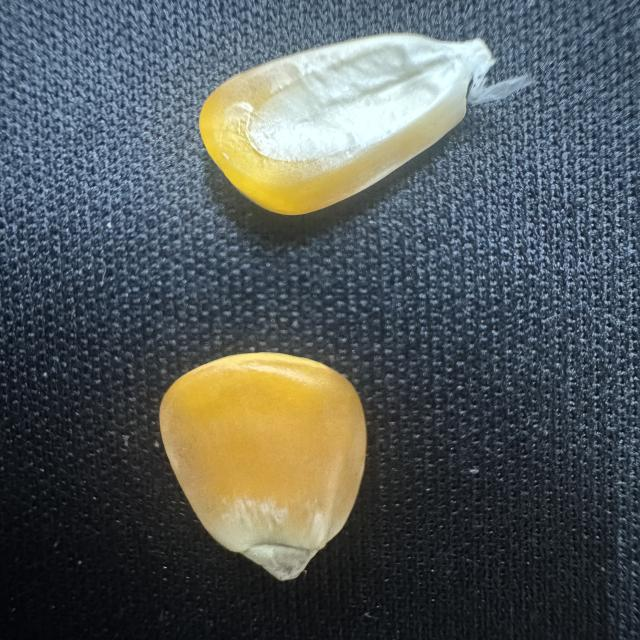Good-Seed: (190, 28, 506, 222), (149, 345, 380, 584)
